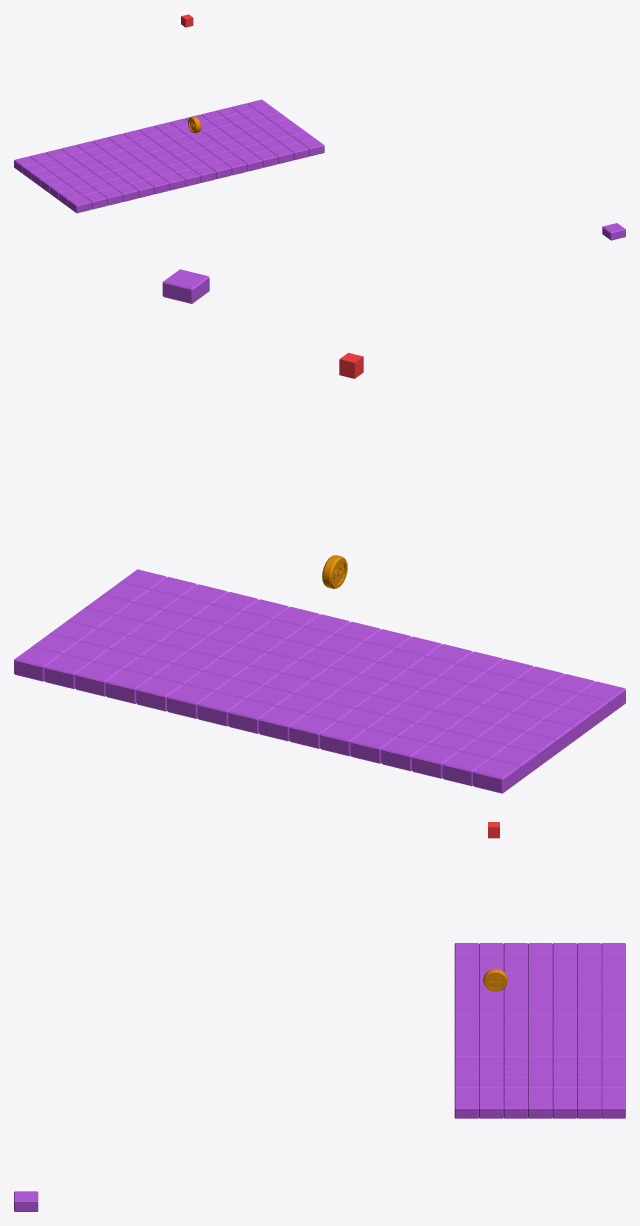
Rendered from level_1.gltf.
3 renders of one model, top to bottom at view 1: azimuth 30°, elevation 25°; view 2: azimuth 150°, elevation 25°; view 3: azimuth 270°, elevation 25°, orthographic. The views are drawn at different scales.
Parts seen in each view (by area): view 1: blockshort44; view 2: blockshort113, blockshort101, blockshort98, blockshort106, blockshort109, blockshort111, blockshort99, blockshort102, blockshort100, blockshort104, blockshort107, blockshort110 (+11 smaller); view 3: no part large enough to name.
Boxes of the visible parts, left/top/right/bottom form: blockshort44: left=67, top=195, right=91, bottom=213; blockshort113: left=162, top=269, right=209, bottom=303; blockshort101: left=473, top=759, right=519, bottom=793; blockshort98: left=350, top=729, right=397, bottom=763; blockshort106: left=197, top=691, right=243, bottom=726; blockshort109: left=105, top=669, right=152, bottom=703; blockshort111: left=44, top=654, right=91, bottom=688; blockshort99: left=442, top=751, right=488, bottom=786; blockshort102: left=320, top=721, right=366, bottom=756; blockshort100: left=412, top=744, right=458, bottom=778; blockshort104: left=259, top=706, right=305, bottom=741; blockshort107: left=167, top=684, right=213, bottom=718; blockshort110: left=75, top=662, right=121, bottom=696.
Bounding box in the file's own units: 50 × 19.15 × 50.
